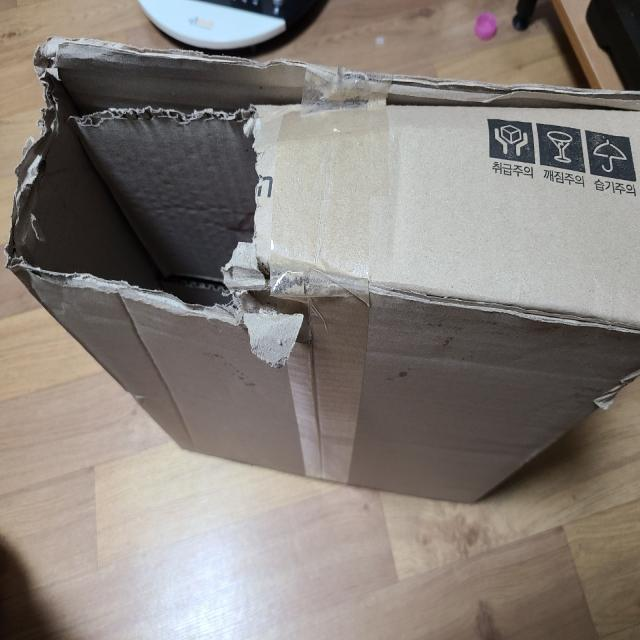damaged: (26, 47, 296, 314)
